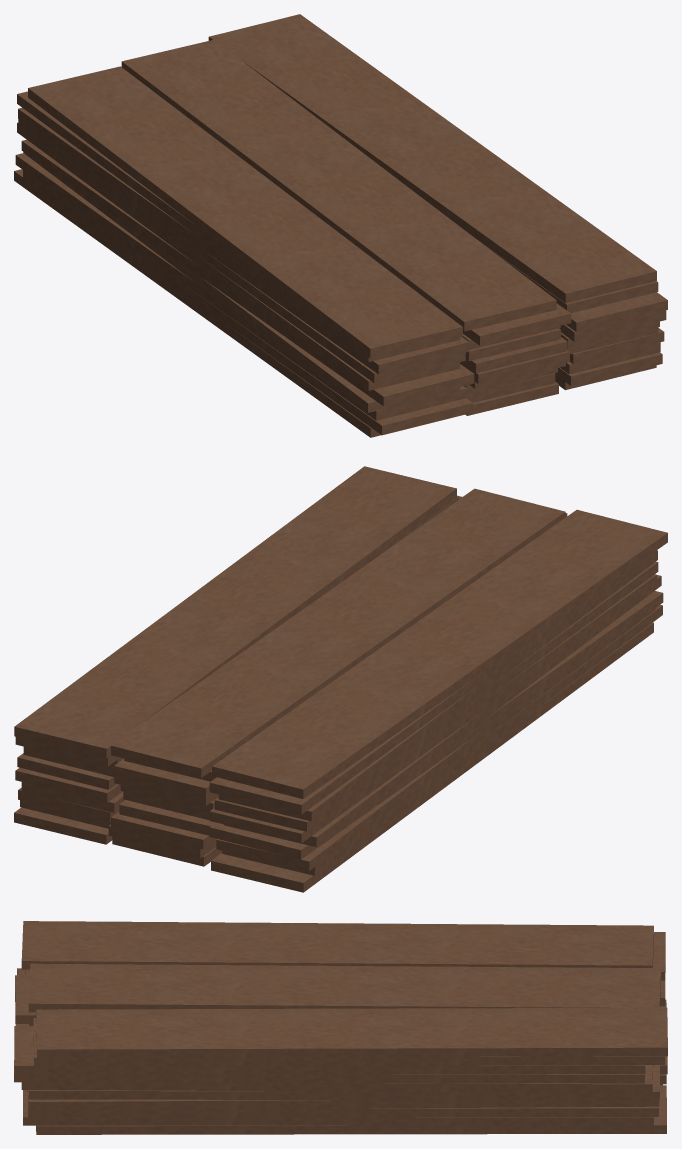
The model's file is wood stack.glb.
3 views of the same model, one above another, from view 1: azimuth 30°, elevation 25°; view 2: azimuth 150°, elevation 25°; view 3: azimuth 270°, elevation 25° (orthographic). The views are drawn at different scales.
Visible parts, largest first — view 1: Wooden_Boards; view 2: Wooden_Boards; view 3: Wooden_Boards.
Part boxes in pixels (<box>): Wooden_Boards: <box>14,14,667,437</box>; Wooden_Boards: <box>14,466,667,892</box>; Wooden_Boards: <box>14,921,667,1134</box>.
Size of the model in its own units: 0.9713 by 0.3 by 2.07.
Materials: 1 (1 with a texture image).
